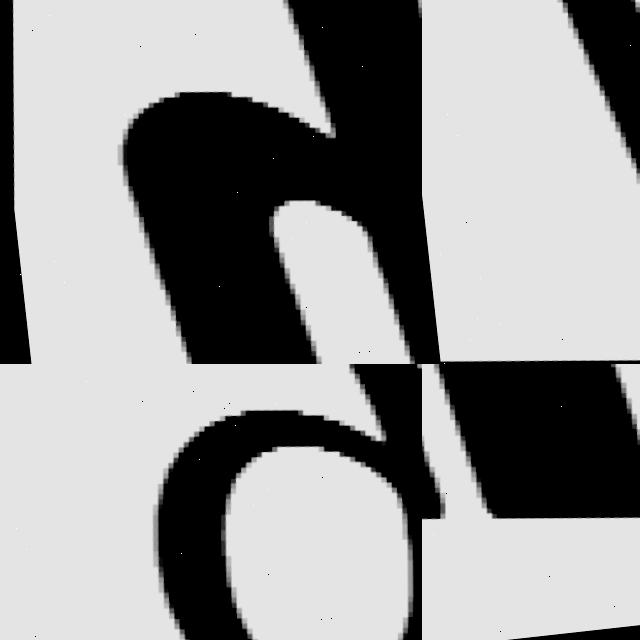6: (61, 364, 422, 640)
H: (111, 0, 422, 364)
N: (422, 364, 640, 579)
W: (422, 0, 640, 332)
